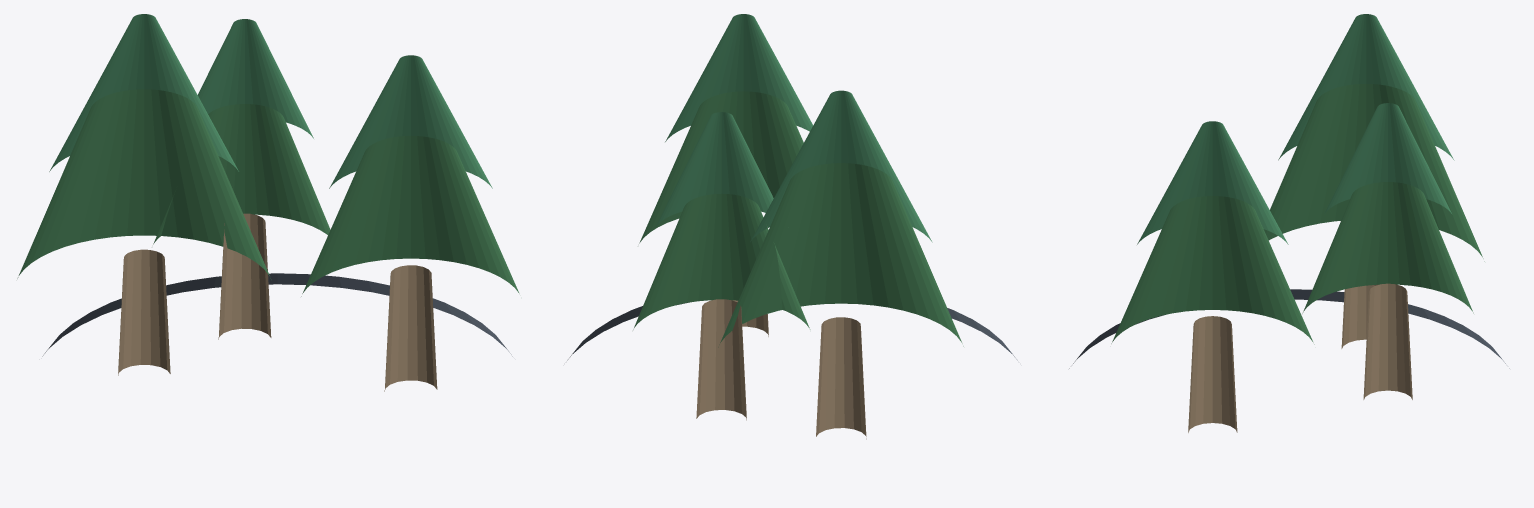
Rendered from campus_tree_cluster.master.glb.
3 renders of one model, left to right at view 1: azimuth 30°, elevation 25°; view 2: azimuth 150°, elevation 25°; view 3: azimuth 270°, elevation 25°, orthographic. The views are drawn at different scales.
Visible parts, largest first — view 1: campus_tree_cluster_master; view 2: campus_tree_cluster_master; view 3: campus_tree_cluster_master.
Boxes of the visible parts, x1,y1,x2,y2 form: campus_tree_cluster_master: (17,14,519,391); campus_tree_cluster_master: (567,14,1017,439); campus_tree_cluster_master: (1069,14,1509,432).
Bounding box in the file's own units: 0.84 × 0.6772 × 0.84.
